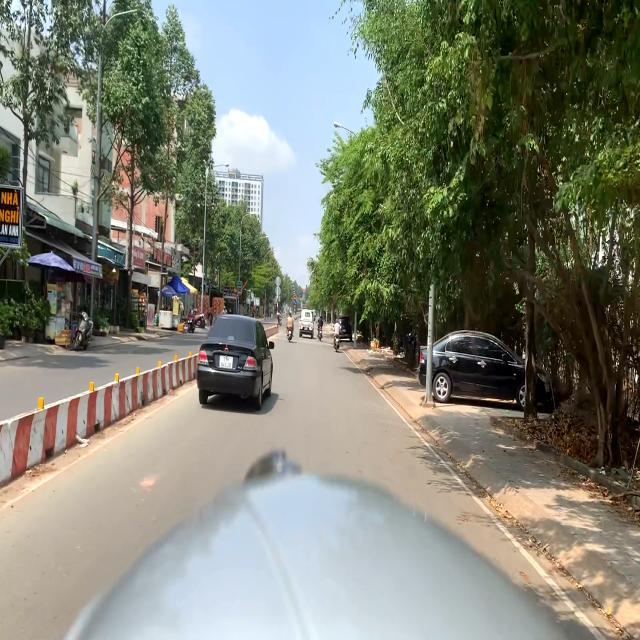P.102: (293, 296, 297, 301)
R.302a: (293, 301, 296, 305)
